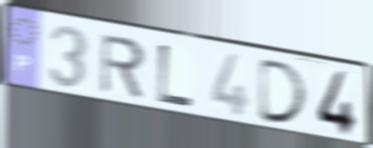3: (47, 24, 92, 93)
4: (316, 68, 359, 139), (209, 51, 251, 121)
D: (256, 57, 311, 127)
L: (155, 41, 196, 110)
R: (98, 32, 147, 102)
